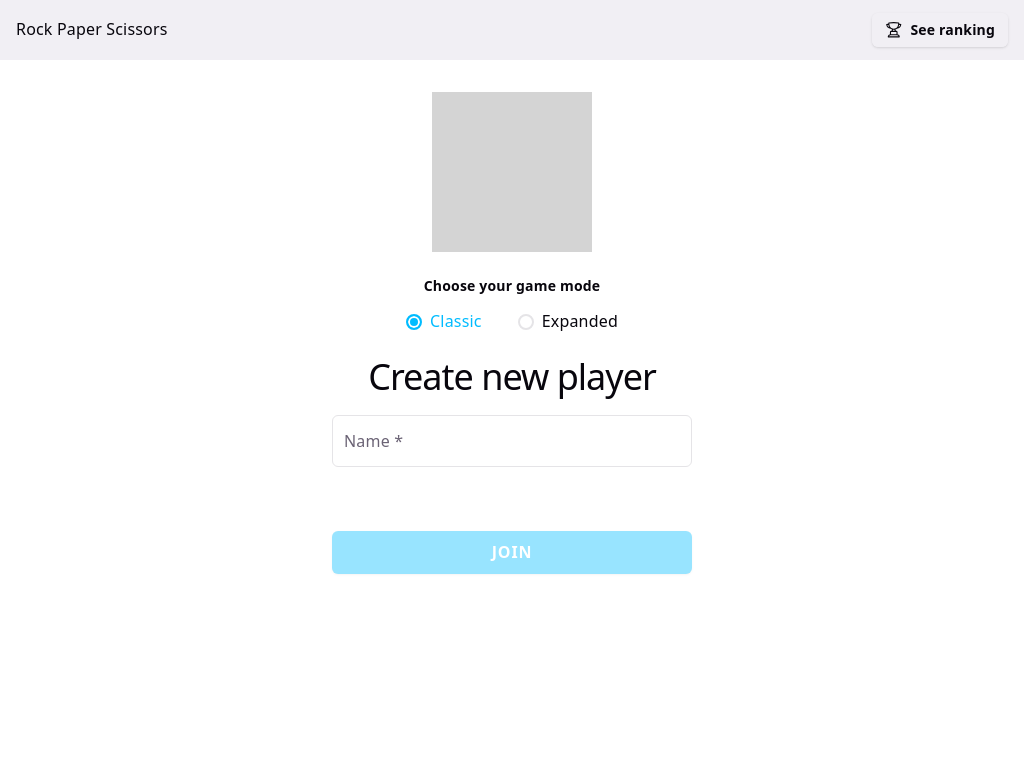
Test case: Application › routing › keeps the base URL in the browser when navigating
Click the link "See ranking". click: (940, 30)
box: [872,13,1008,47]
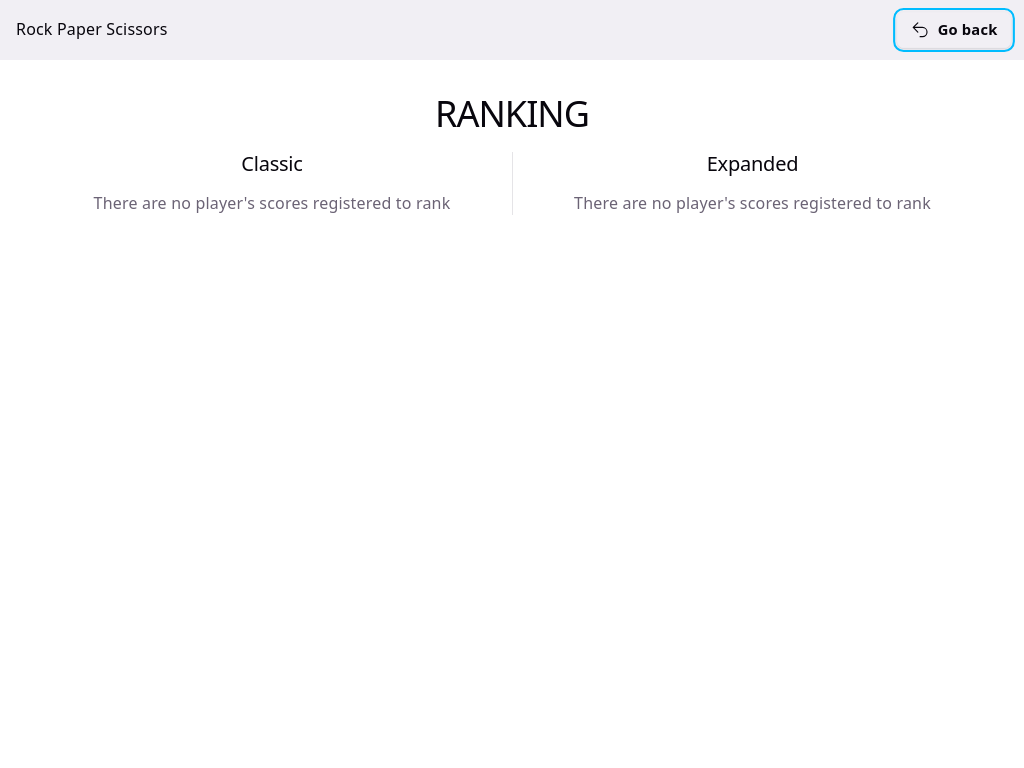
Result: the element with test id "ranking-page" is shown at [94,89,992,215]
